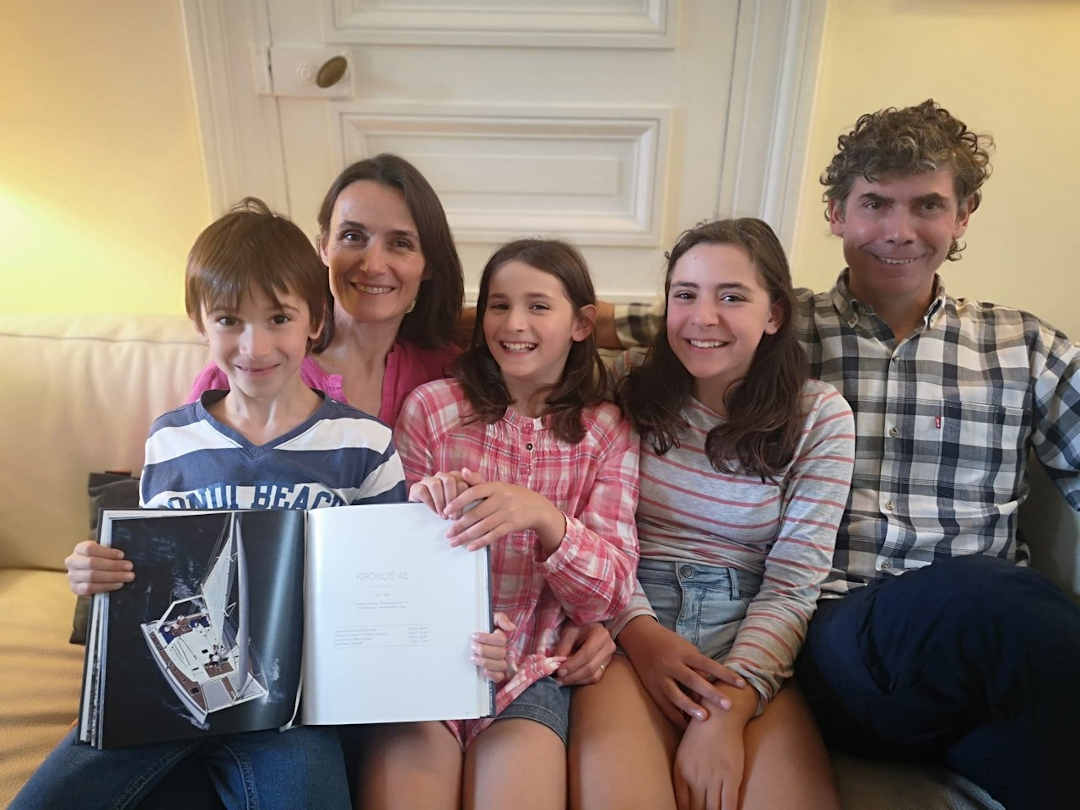without_mask: (846, 185, 953, 287), (204, 301, 307, 398), (664, 276, 759, 374), (329, 216, 418, 316), (481, 286, 556, 376)
